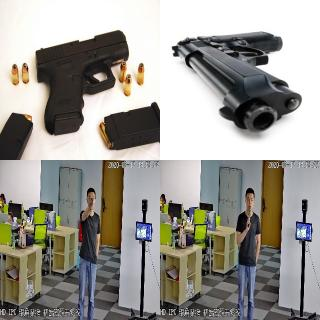gun: (168, 30, 307, 132), (34, 26, 126, 136), (246, 205, 250, 228), (89, 196, 93, 212)
